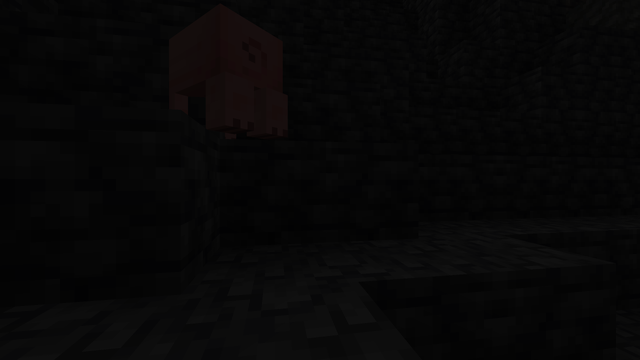cochons: (140, 2, 269, 142)
